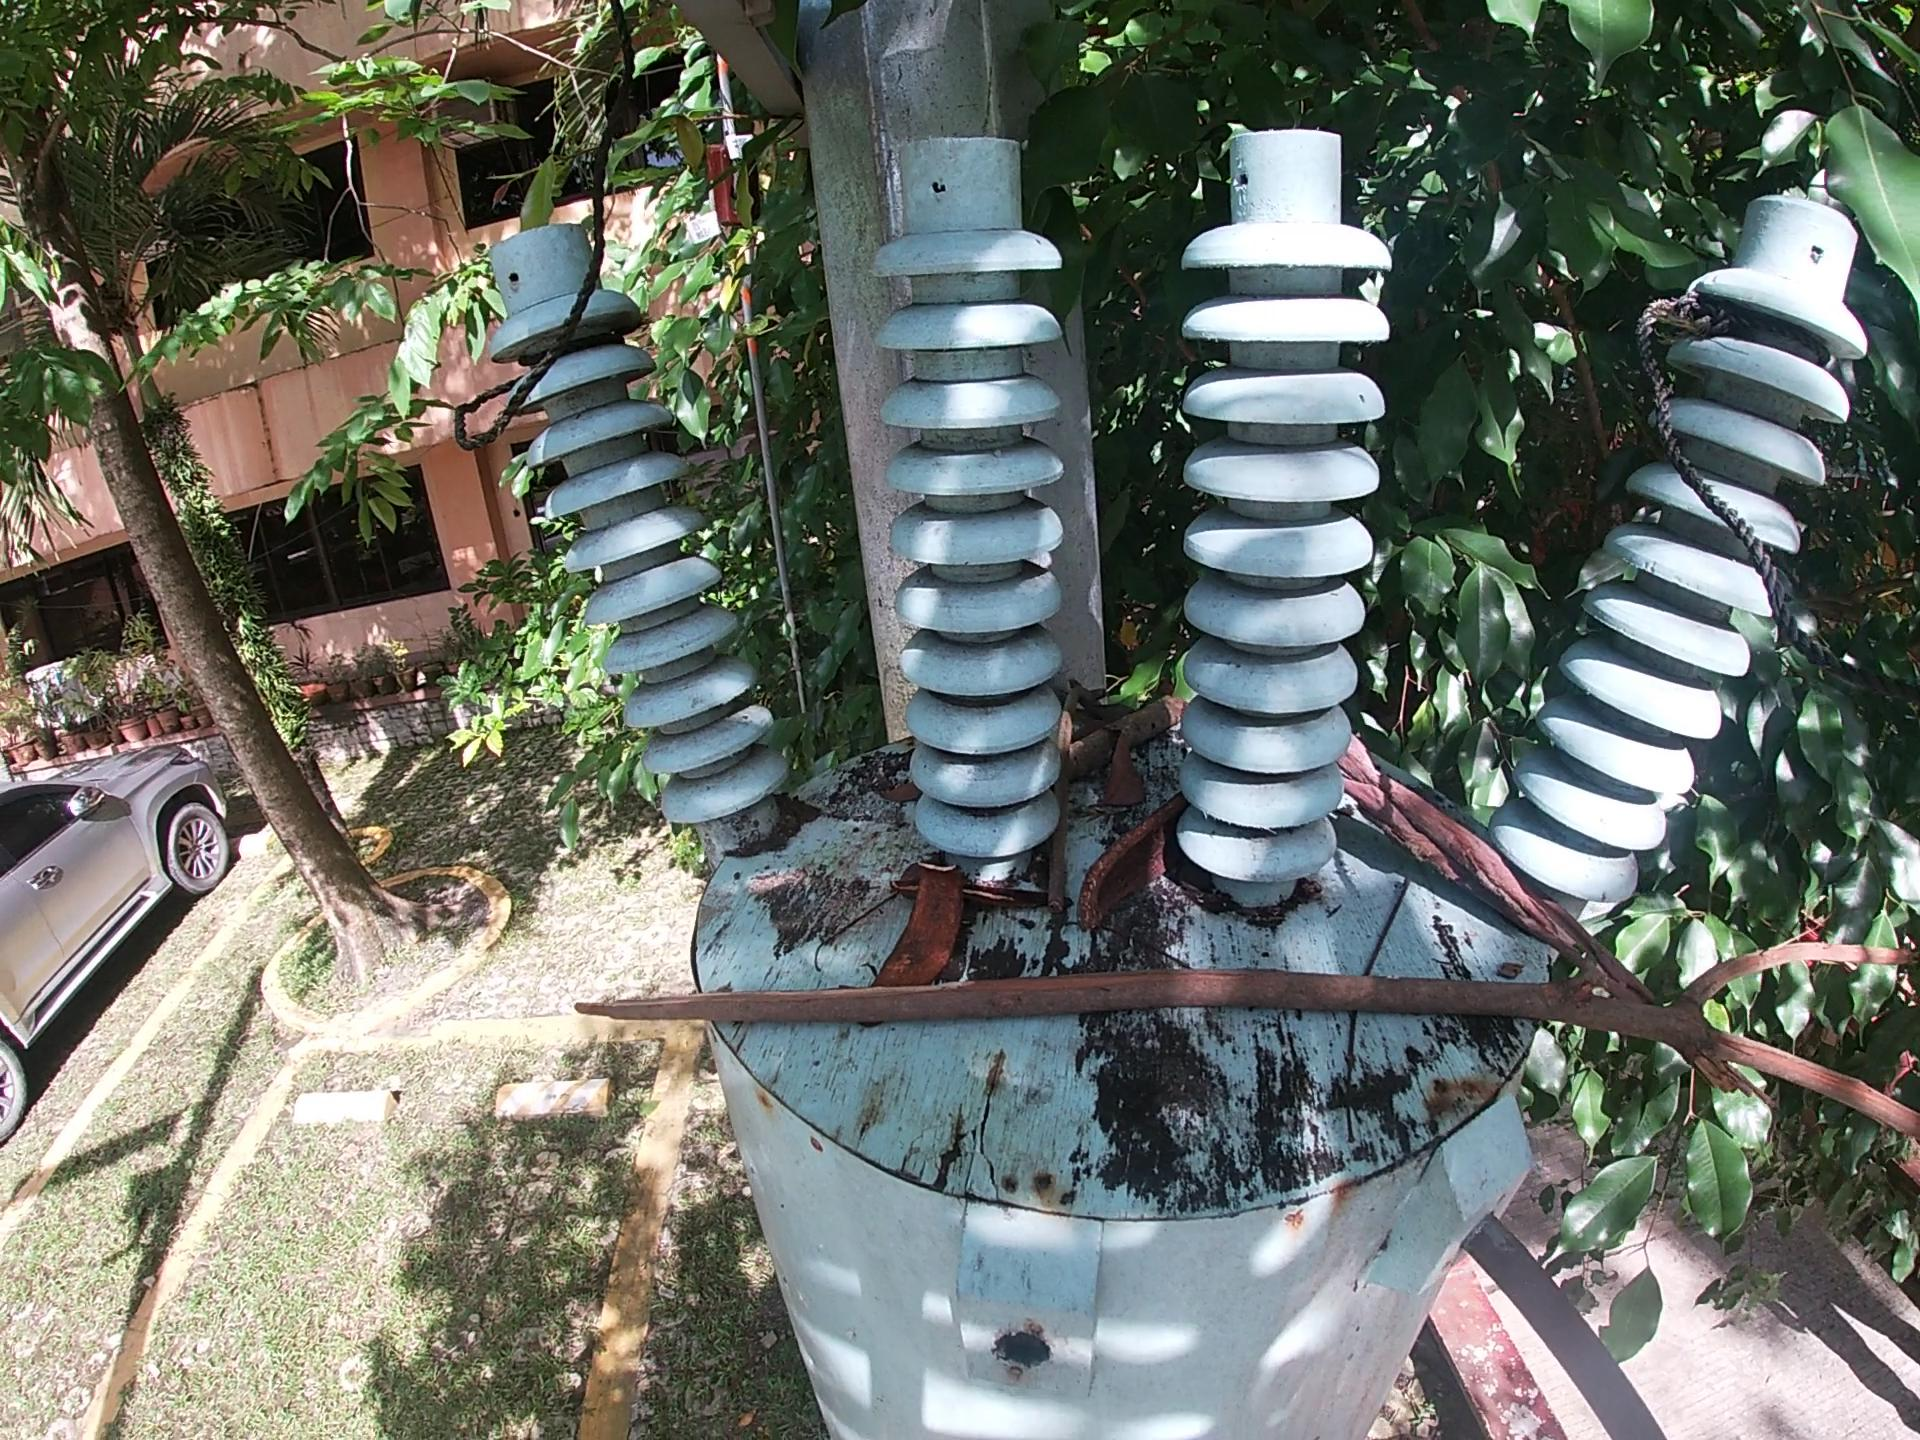leaf: (1102, 729, 1155, 812), (875, 776, 918, 809), (893, 858, 915, 885)
mahogany fruit: (1057, 793, 1181, 957), (859, 861, 965, 989)
tree branch: (547, 926, 1920, 1151), (1364, 737, 1689, 1024), (1327, 883, 1412, 1150), (1052, 694, 1173, 779), (807, 885, 897, 967), (1055, 666, 1076, 914), (960, 880, 1042, 908)
